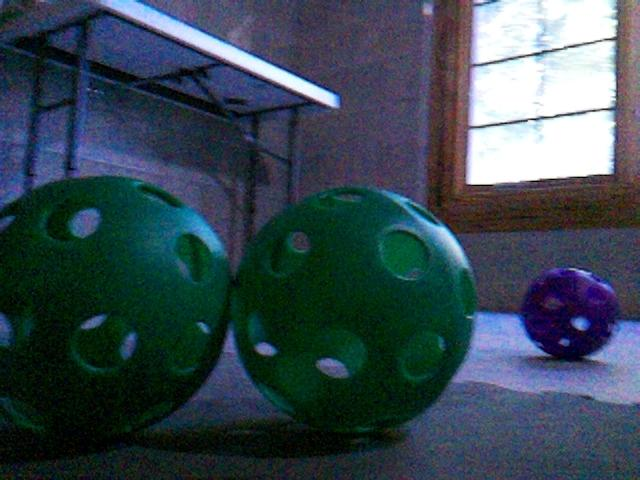Green: (0, 175, 232, 446), (229, 184, 474, 432)
Purple: (517, 267, 620, 361)
